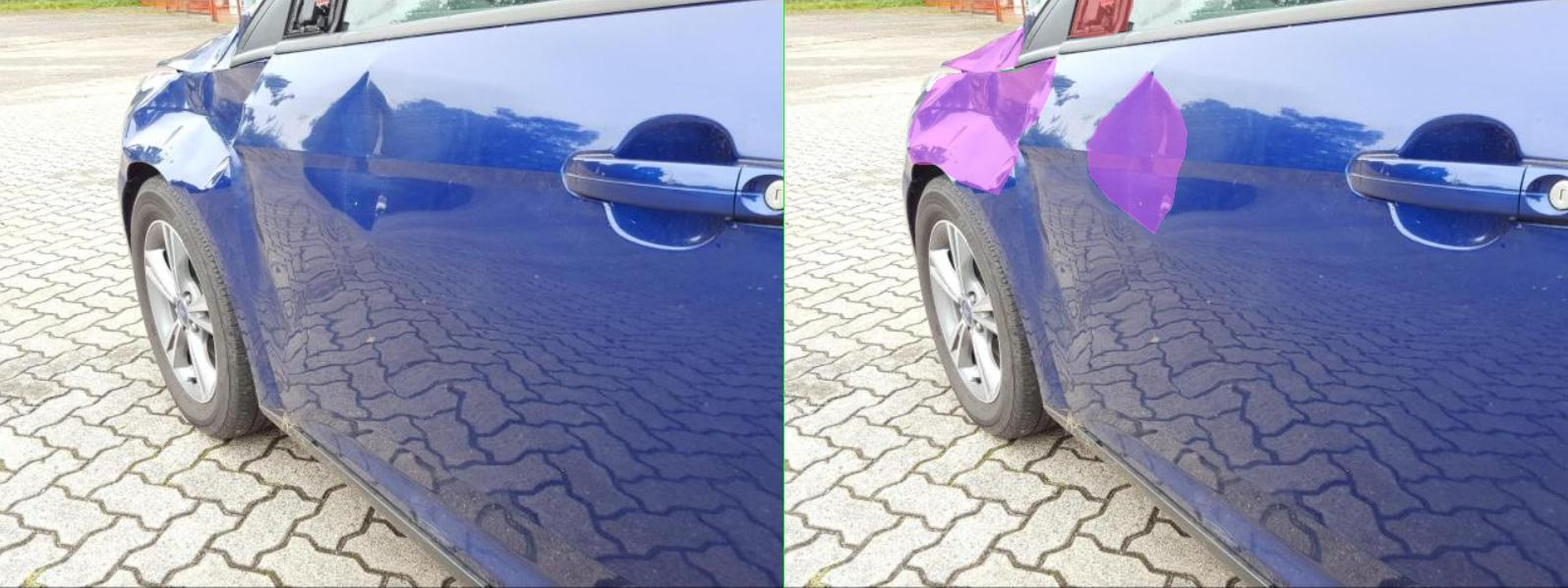Dent: (248, 58, 543, 194), (604, 71, 805, 234), (319, 28, 478, 74)
Missing part: (571, 0, 696, 36)
Scratch: (752, 195, 777, 214), (704, 199, 722, 208)
